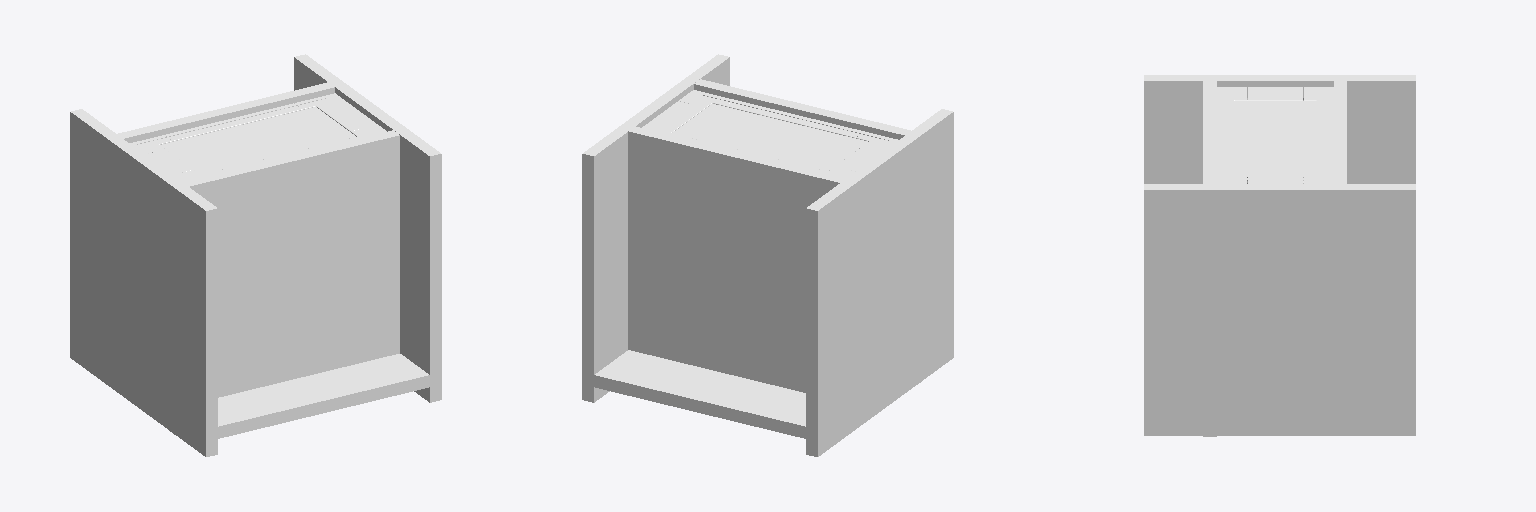
The picture shows the model from 3 angles: view 1: azimuth 30°, elevation 25°; view 2: azimuth 150°, elevation 25°; view 3: azimuth 270°, elevation 25°; orthographic projection.
Visible parts, largest first — view 1: SM_Template_Map_Floor, Towel_Room01_window1, Towel_Room01_window_frame_bottom002, Towel_Room01_window_frame_side002, Towel_Room01_window_frame_side001; view 2: SM_Template_Map_Floor, Towel_Room01_window1, Towel_Room01_window_frame_bottom001, Towel_Room01_window_frame_side002, Towel_Room01_window_frame_side001, Towel_Room01_window_frame_corner002; view 3: SM_Template_Map_Floor, Towel_Room01_window1, Towel_Room01_window_frame_bottom001, Towel_Room01_window_frame_bottom002, Towel_Room01_window_frame_side001.
Boxes of the visible parts, x1,y1,x2,y2 form: SM_Template_Map_Floor: [70, 54, 441, 456]; Towel_Room01_window1: [160, 107, 355, 174]; Towel_Room01_window_frame_bottom002: [165, 103, 301, 141]; Towel_Room01_window_frame_side002: [323, 104, 377, 131]; Towel_Room01_window_frame_side001: [145, 149, 192, 174]; SM_Template_Map_Floor: [582, 54, 953, 456]; Towel_Room01_window1: [672, 104, 867, 170]; Towel_Room01_window_frame_bottom001: [726, 100, 863, 137]; Towel_Room01_window_frame_side002: [650, 101, 705, 128]; Towel_Room01_window_frame_side001: [835, 146, 883, 171]; Towel_Room01_window_frame_corner002: [679, 90, 733, 107]; SM_Template_Map_Floor: [1144, 75, 1415, 436]; Towel_Room01_window1: [1234, 101, 1316, 178]; Towel_Room01_window_frame_bottom001: [1217, 107, 1233, 169]; Towel_Room01_window_frame_bottom002: [1317, 107, 1333, 169]; Towel_Room01_window_frame_side001: [1248, 87, 1302, 100].
Bounding box in the file's own units: 10 × 10.01 × 10.